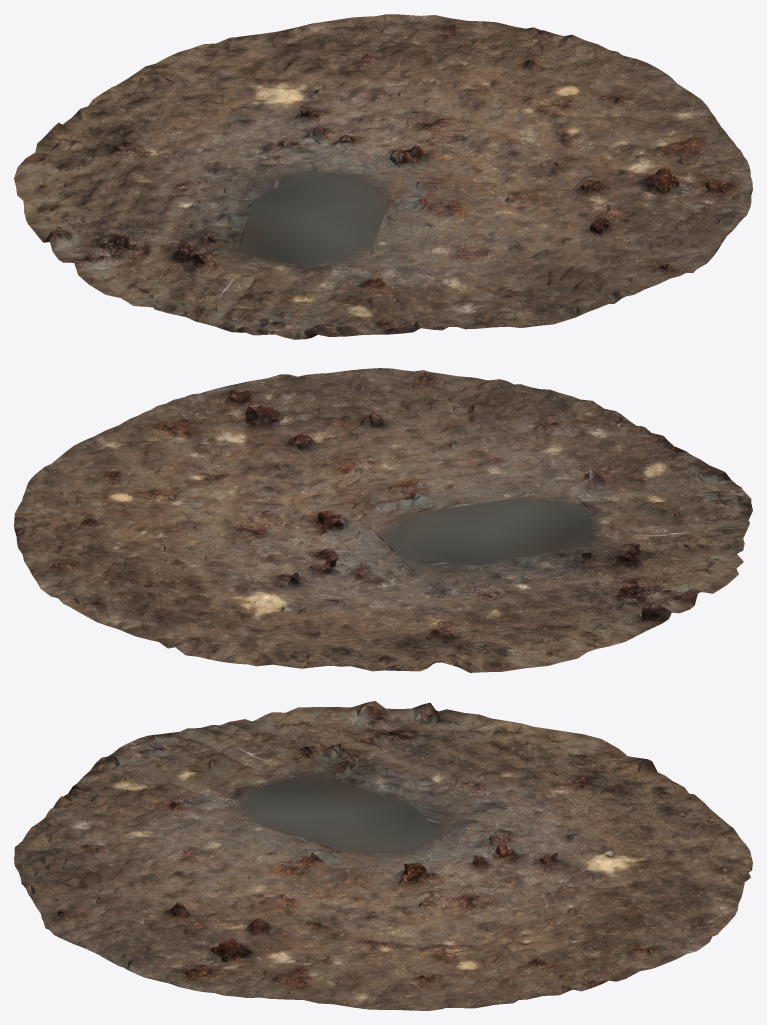
File: groundcompressed.gltf
3 renders of one model, top to bottom at view 1: azimuth 30°, elevation 25°; view 2: azimuth 150°, elevation 25°; view 3: azimuth 270°, elevation 25°, orthographic. The views are drawn at different scales.
Parts seen in each view (by area): view 1: Mesh_0_Part_0; view 2: Mesh_0_Part_0; view 3: Mesh_0_Part_0.
Boxes of the visible parts, <box> form: Mesh_0_Part_0: <box>14,14,752,339</box>; Mesh_0_Part_0: <box>14,368,752,672</box>; Mesh_0_Part_0: <box>14,701,752,1010</box>.
Size of the model in its own units: 24.42 by 0.9995 by 24.54.
Materials: 1 (1 with a texture image).
